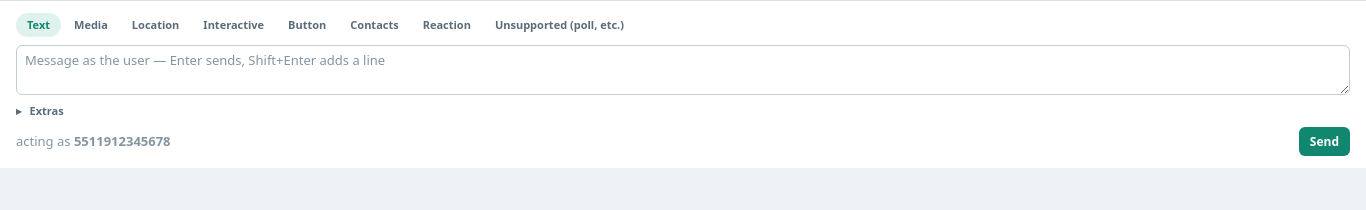
Test: Composer › surfaces a control-plane rejection on the form
Type "hi" into the text box named "Message text" at (683, 70), box [16,45,1350,95]
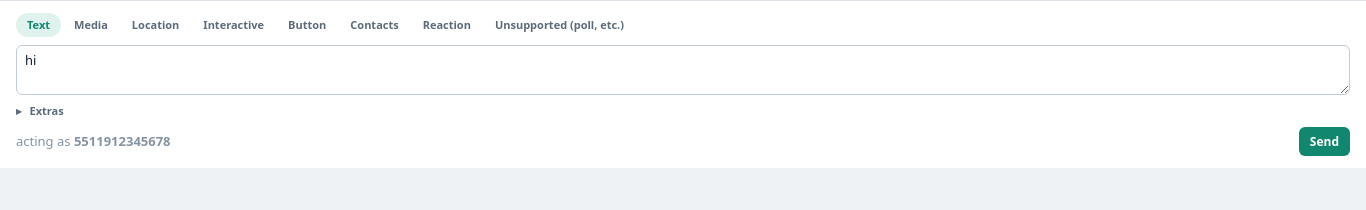
Click the button "Send" at (1324, 141), box [1299,127,1350,156]
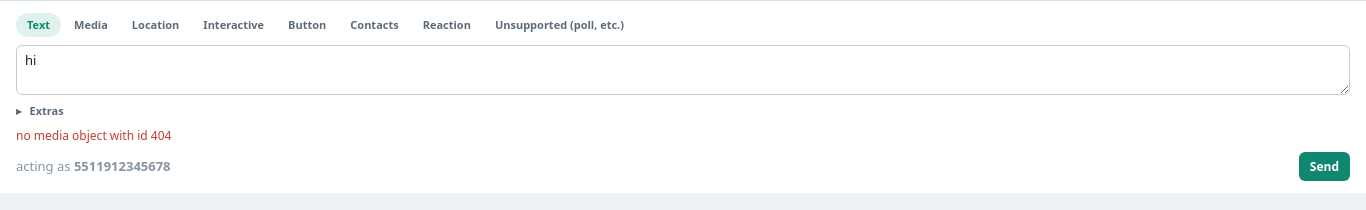
Expected: the text "no media object with id 404" is shown, [16,127,171,144]
